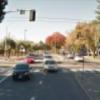cars: (11, 64, 34, 83)
